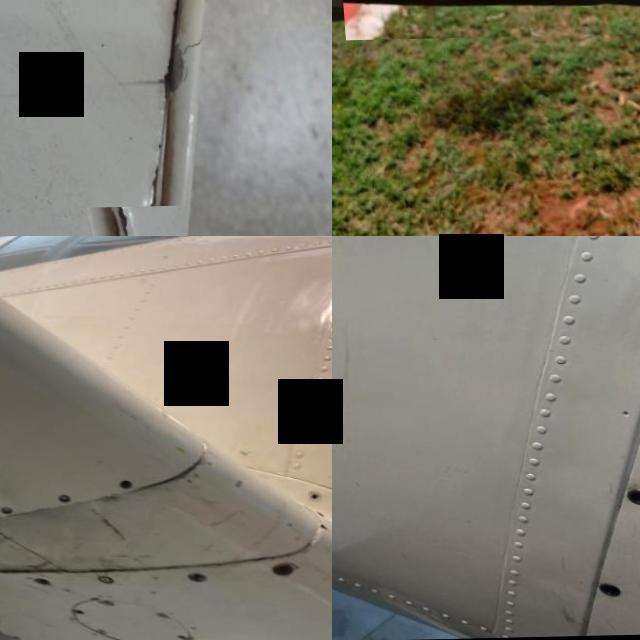Crack: (135, 21, 207, 115), (306, 524, 328, 536)
Missing_Fastener: (264, 564, 292, 578), (180, 572, 201, 588), (112, 480, 130, 492), (28, 578, 46, 588), (303, 494, 320, 504), (51, 494, 68, 504), (0, 505, 8, 517)
